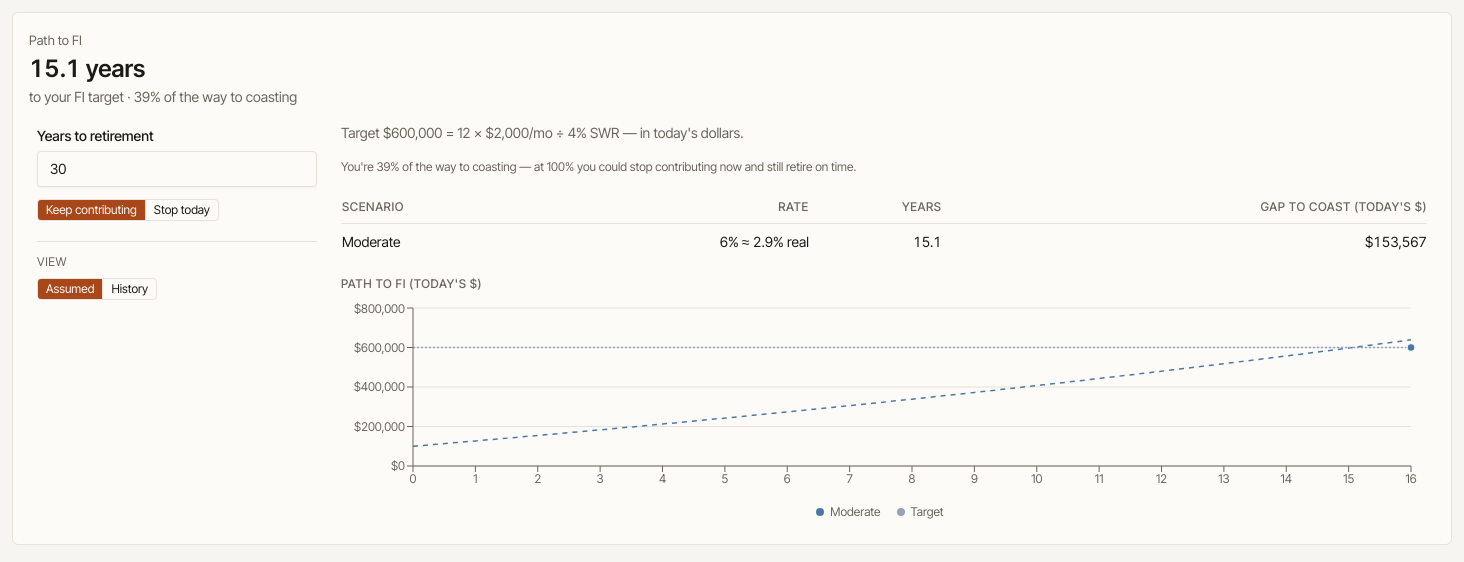
Test: PathToFiCard — degradation (⚑F5, CH-5/CH-6) › H=160 renders the CH-6 line
Click the button "Stop today": (181,210) [145,200,218,220]
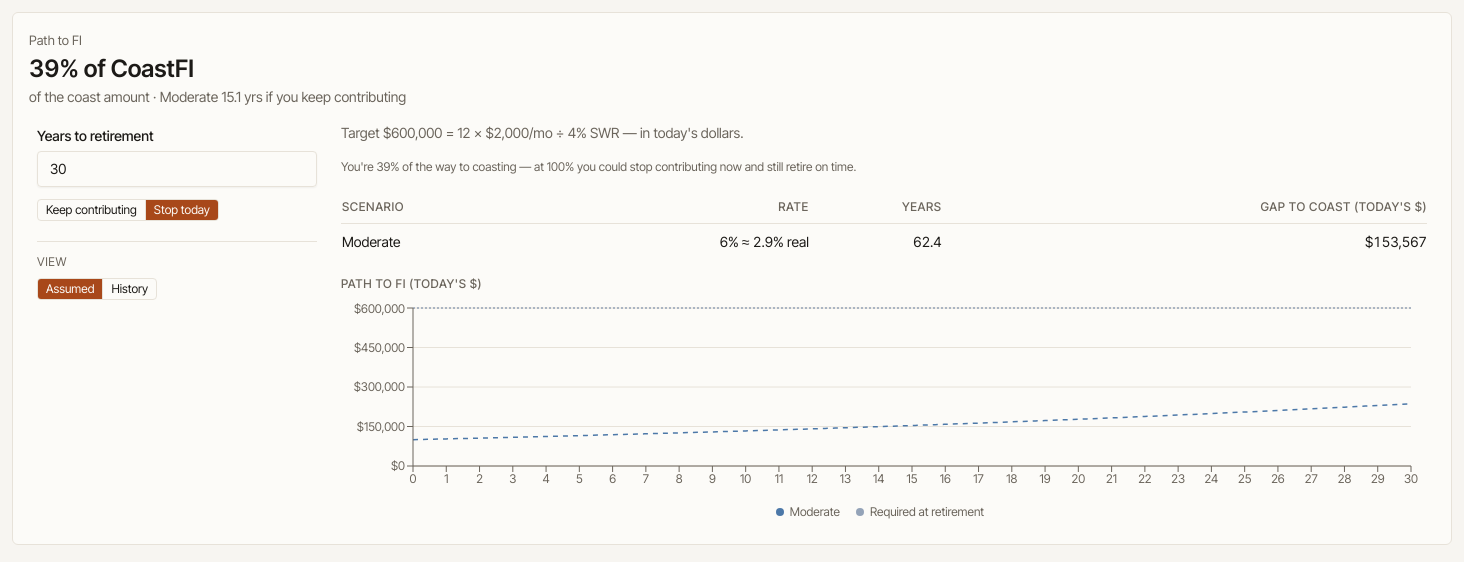
Replace the text in the number field labelled "Years to retirement" with "160": (177,168) [37,150,317,186]
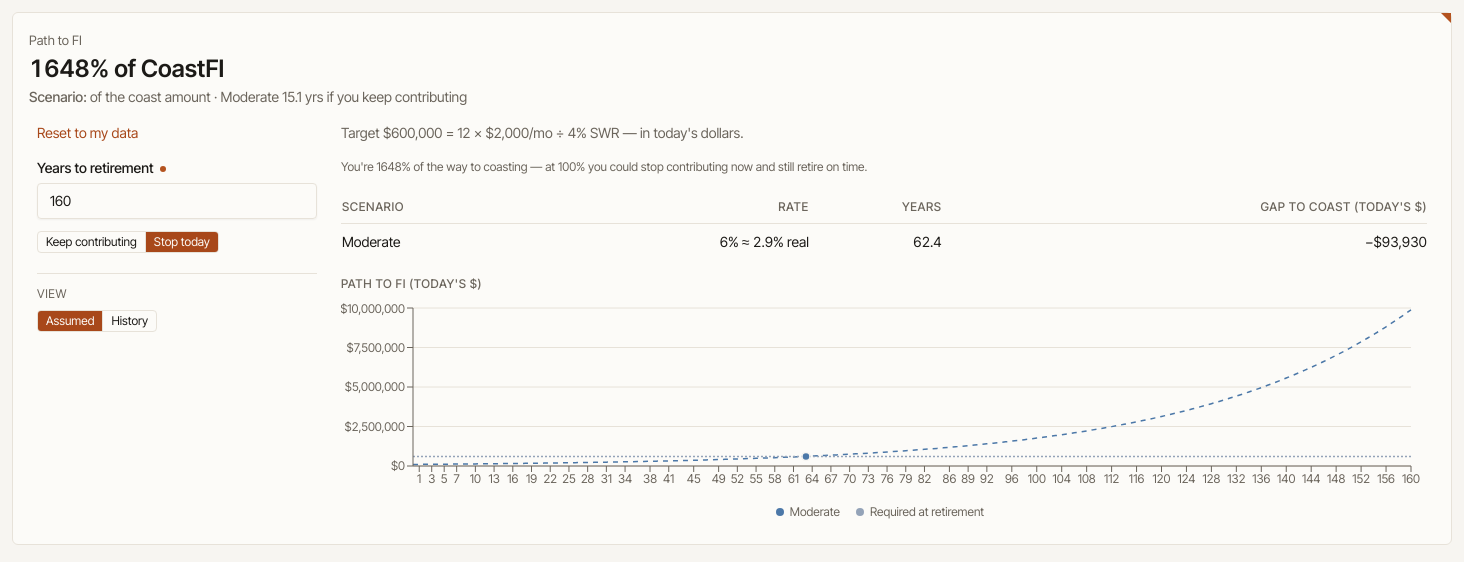
Click the button "History": (129,320) [102,310,156,330]
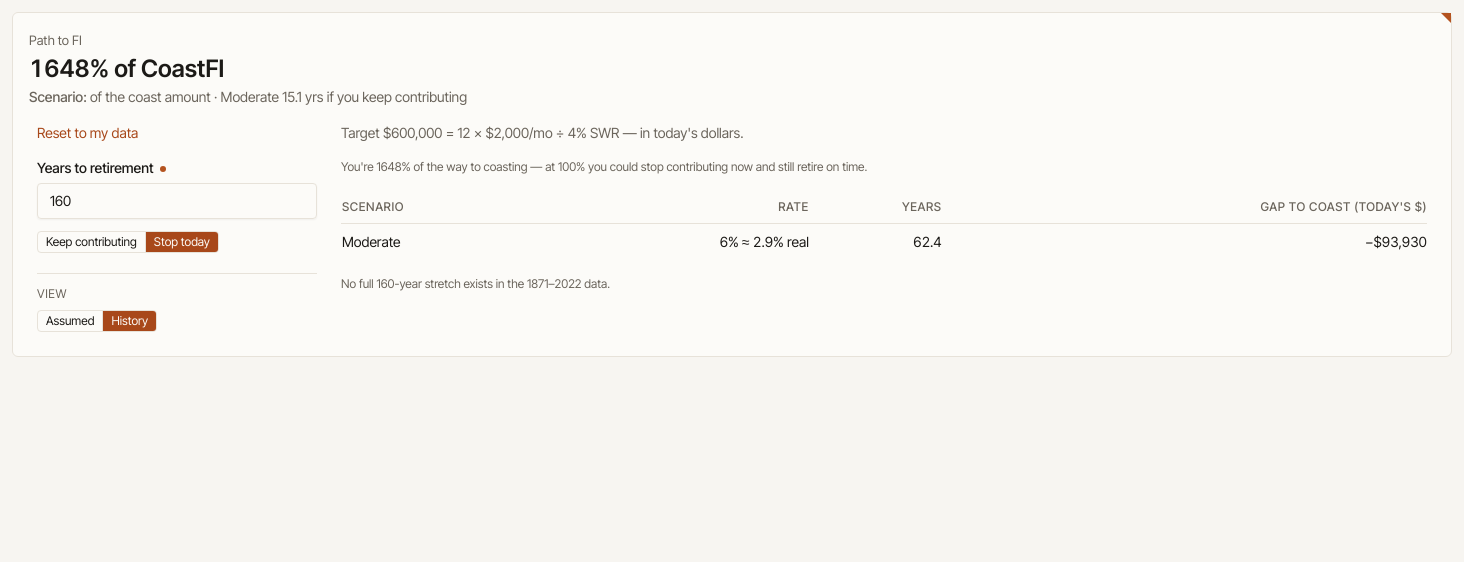
Expected: the text with test id "path-to-fi-history-degraded" reads "No full 160-year stretch exists in the 1871–2022 data.", [341,276,610,290]
